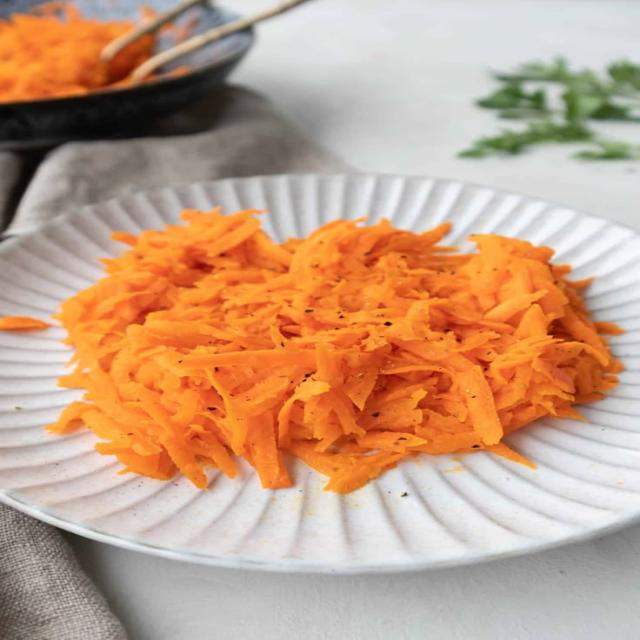carrot: (49, 210, 620, 492), (0, 2, 155, 102), (0, 317, 49, 330)
